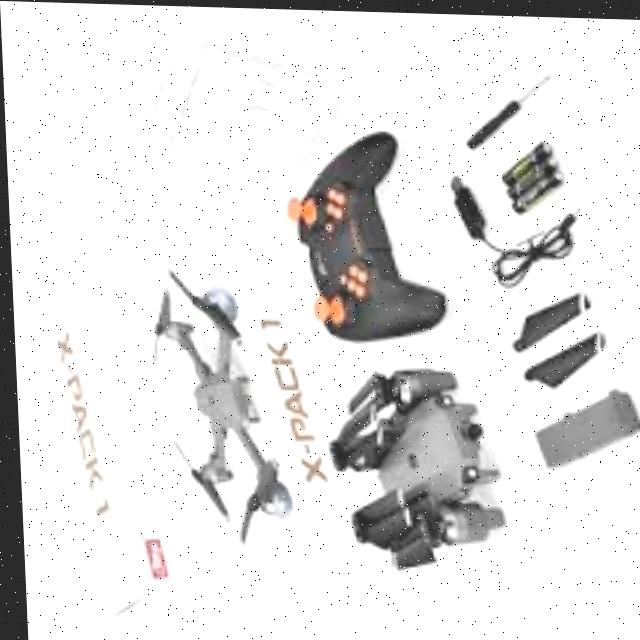drone: (141, 237, 291, 552)
